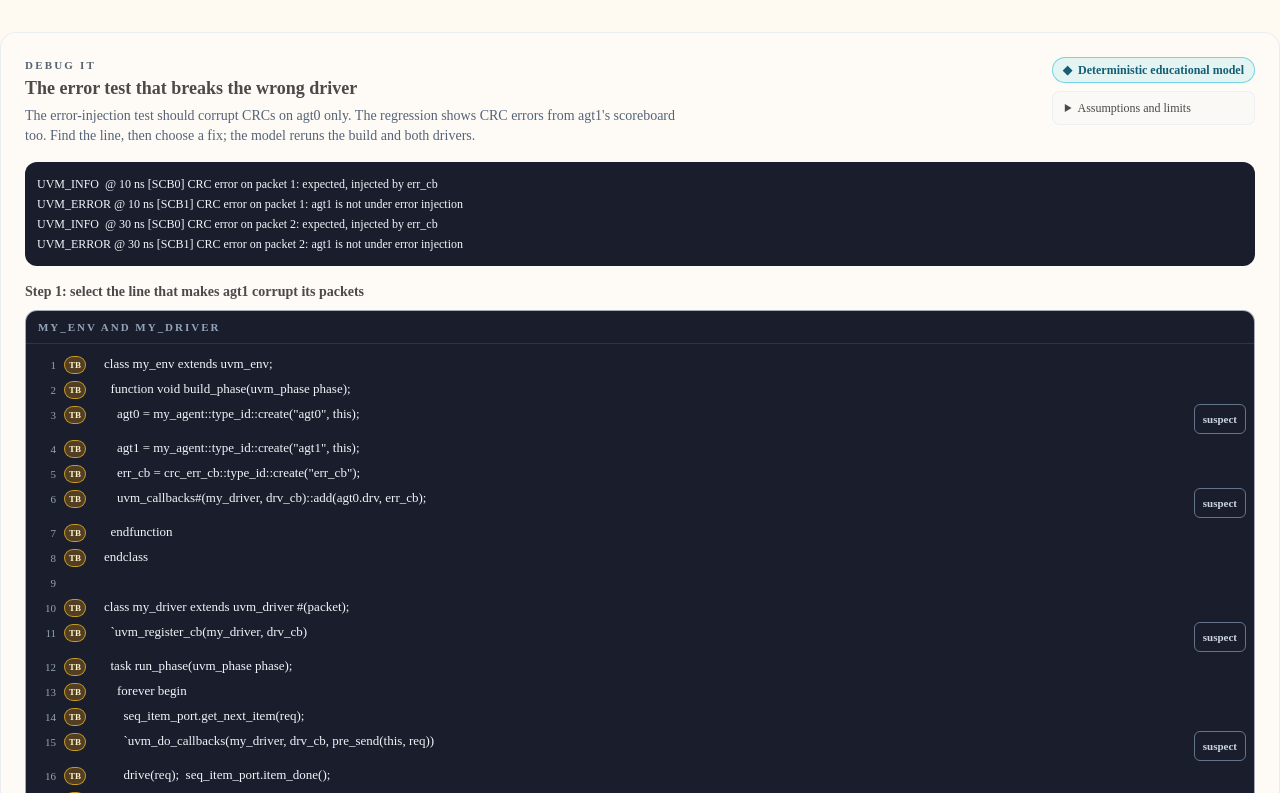
Scenario: CallbackTimingVisualizer › debug mode: the env build_phase add() is the culprit; connect_phase fixes it, add_by_name does not
Expected: the text named "Failing log" shows "agt1 is not under error injection", [37,176,463,250]
Click the button with aria-label "Suspect line: `uvm_register_cb" at point(1220, 637), box [1194,622,1246,652]
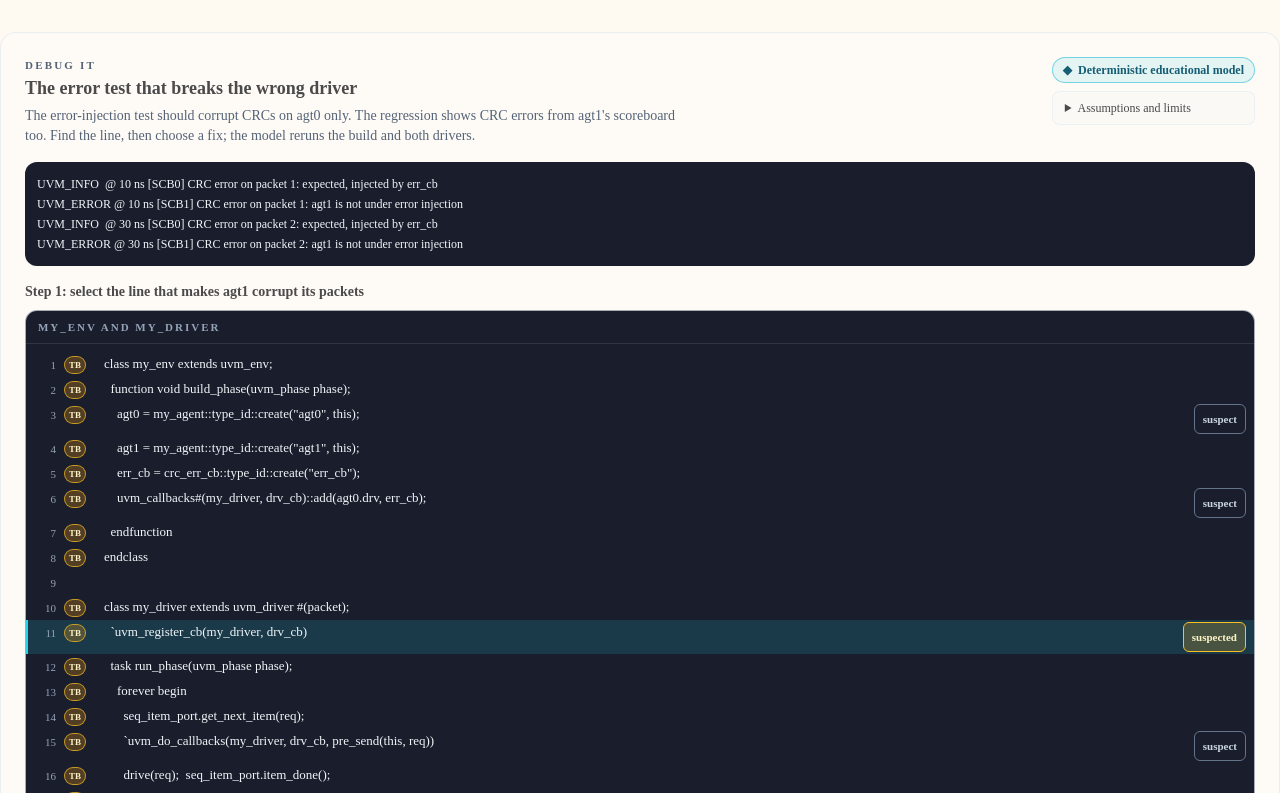
Click the button named "Suspect line: uvm_callbacks#(my_driver, drv_cb)::add(agt0.drv" at point(1220, 503), box [1194,488,1246,518]
(page scrolled)
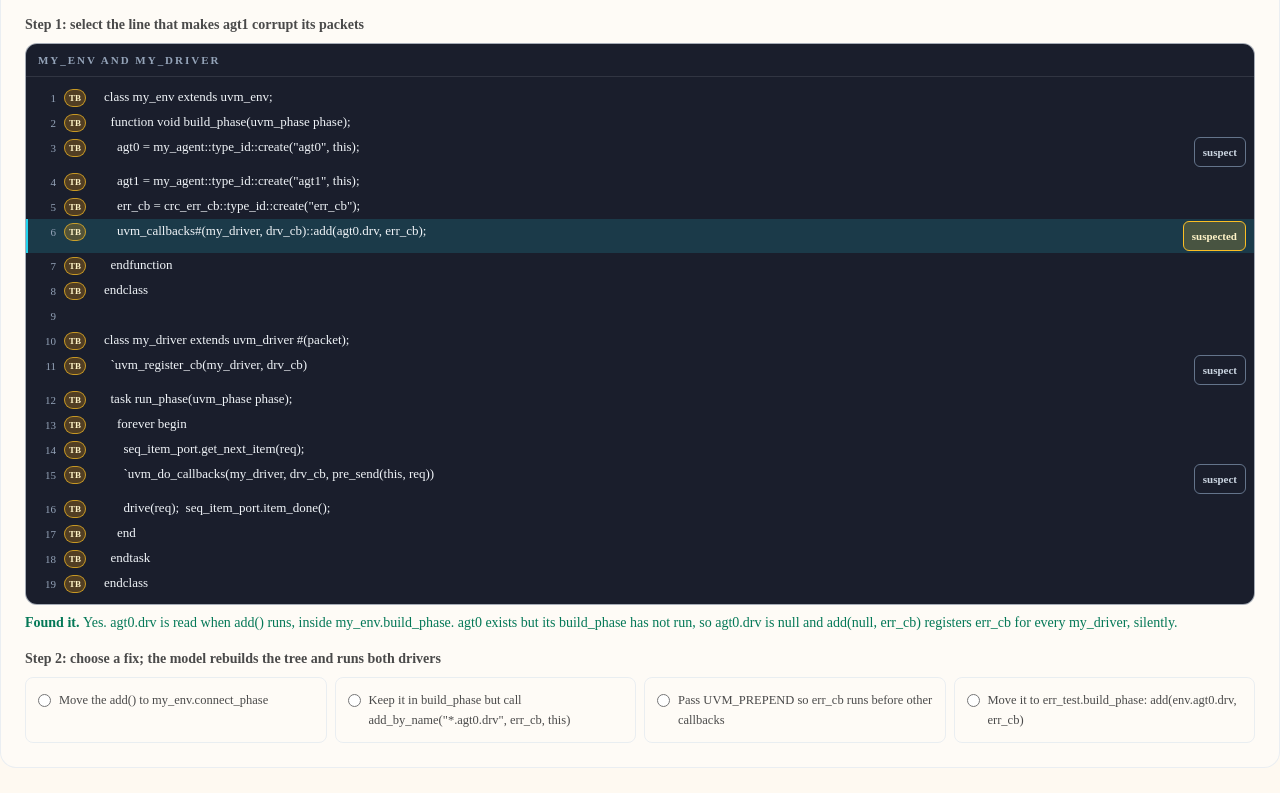
Now the text "Found it." is shown, box [25,615,83,630]
Click the radio button labelled "add_by_name" at point(354, 700), box [348,694,360,707]
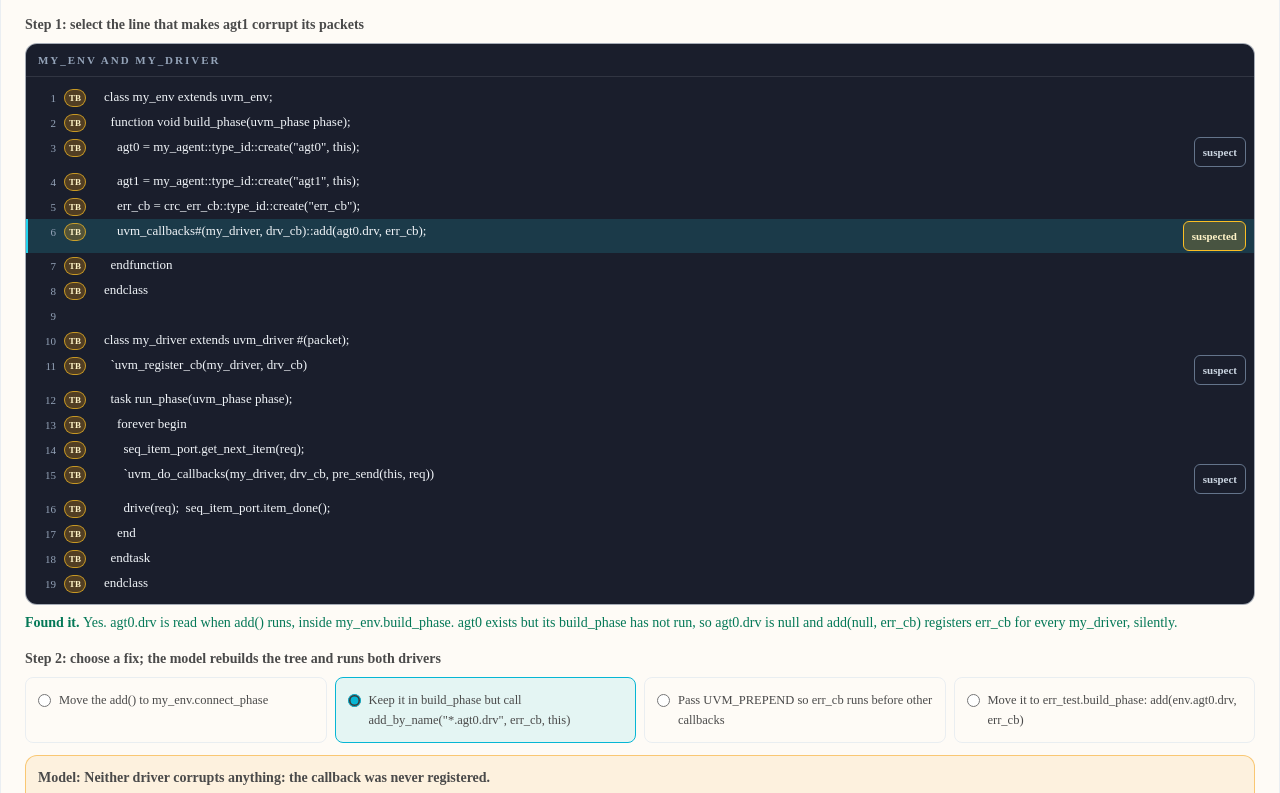
Now the text "Neither driver corrupts anything" is shown, box [84,770,490,785]
Click the radio button labelled "Move the add() to my_env.connect_phase" at point(44, 700), box [38,694,51,707]
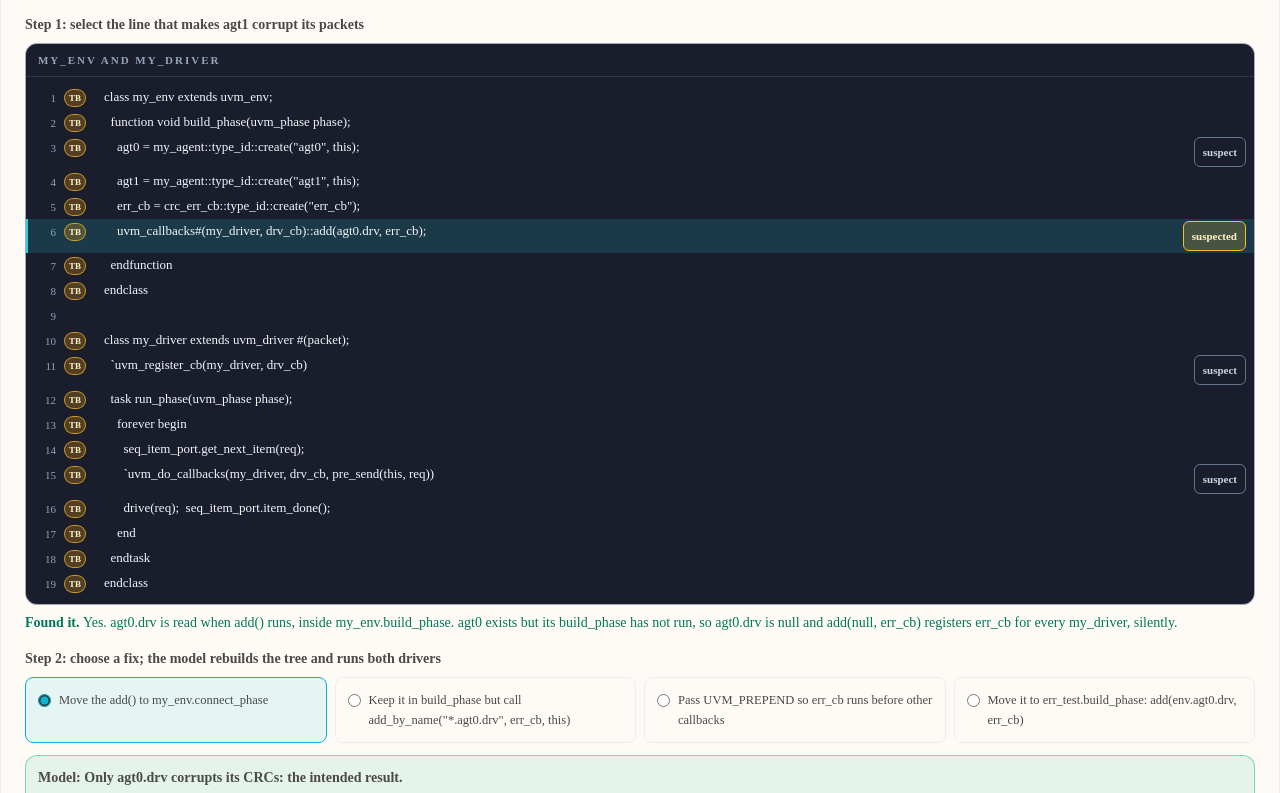
Now the text "Model: Only agt0.drv corrupts its CRCs: the intended result." is shown, box [38,770,402,785]
